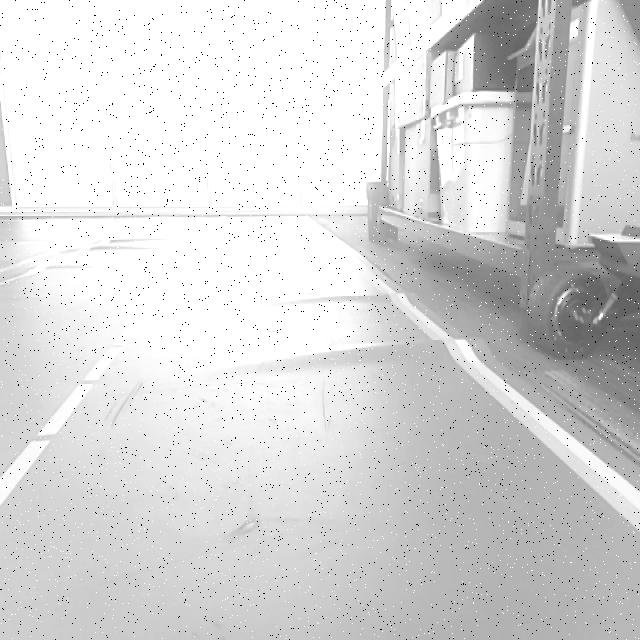left_lane: (0, 244, 200, 507)
right_lane: (317, 227, 640, 527)
